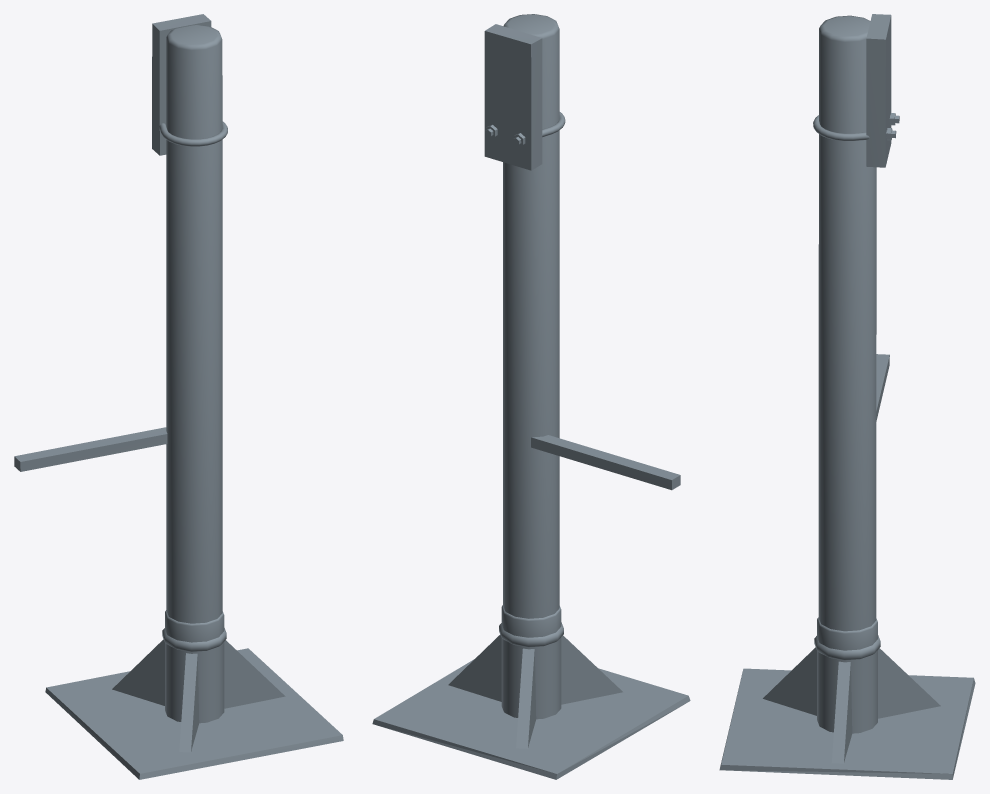
The model's file is 立柱与底座.glb.
3 views of the same model, side by side, from view 1: azimuth 30°, elevation 25°; view 2: azimuth 150°, elevation 25°; view 3: azimuth 270°, elevation 25° (orthographic). The views are drawn at different scales.
Visible parts, largest first — view 1: 立柱_支撑管, 底座_安装底板, 立柱_底部套筒, 支架_线缆固定片, 支架_仪表安装板, 底座_加强筋_03, 底座_加强筋_02, 底座_加强筋_01, 立柱_固定环; view 2: 立柱_支撑管, 底座_安装底板, 支架_仪表安装板, 立柱_底部套筒, 支架_线缆固定片, 底座_加强筋_01, 底座_加强筋_03, 底座_加强筋_02; view 3: 立柱_支撑管, 底座_安装底板, 立柱_底部套筒, 支架_仪表安装板, 底座_加强筋_02, 底座_加强筋_01, 底座_加强筋_03, 支架_线缆固定片, 立柱_固定环.
Part boxes in pixels (x1,y1,x2,y2): 立柱_支撑管: (166,25,222,623); 底座_安装底板: (45,648,343,779); 立柱_底部套筒: (162,610,226,723); 支架_线缆固定片: (14,427,167,471); 支架_仪表安装板: (152,14,211,155); 底座_加强筋_03: (224,640,285,708); 底座_加强筋_02: (112,639,164,705); 底座_加强筋_01: (179,653,199,752); 立柱_固定环: (159,121,227,146); 立柱_支撑管: (503,14,559,618); 底座_安装底板: (372,659,690,779); 支架_仪表安装板: (484,24,542,170); 立柱_底部套筒: (499,605,563,719); 支架_线缆固定片: (531,435,680,490); 底座_加强筋_01: (561,635,622,704); 底座_加强筋_03: (448,635,501,701); 底座_加强筋_02: (516,648,536,748); 立柱_支撑管: (818,15,876,631); 底座_安装底板: (719,668,975,779); 立柱_底部套筒: (814,617,880,733); 支架_仪表安装板: (866,14,891,167); 底座_加强筋_02: (878,648,940,718); 底座_加强筋_01: (763,647,816,715); 底座_加强筋_03: (832,661,852,763); 支架_线缆固定片: (876,354,889,421); 立柱_固定环: (813,115,869,141).
Size of the model in its own units: 0.1314 by 0.3206 by 0.1061.
